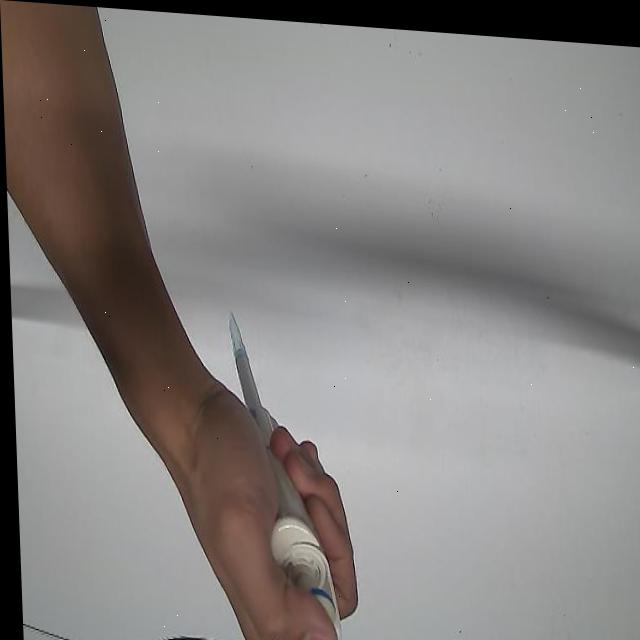Single Channel Pipettor: (228, 347, 340, 640)
